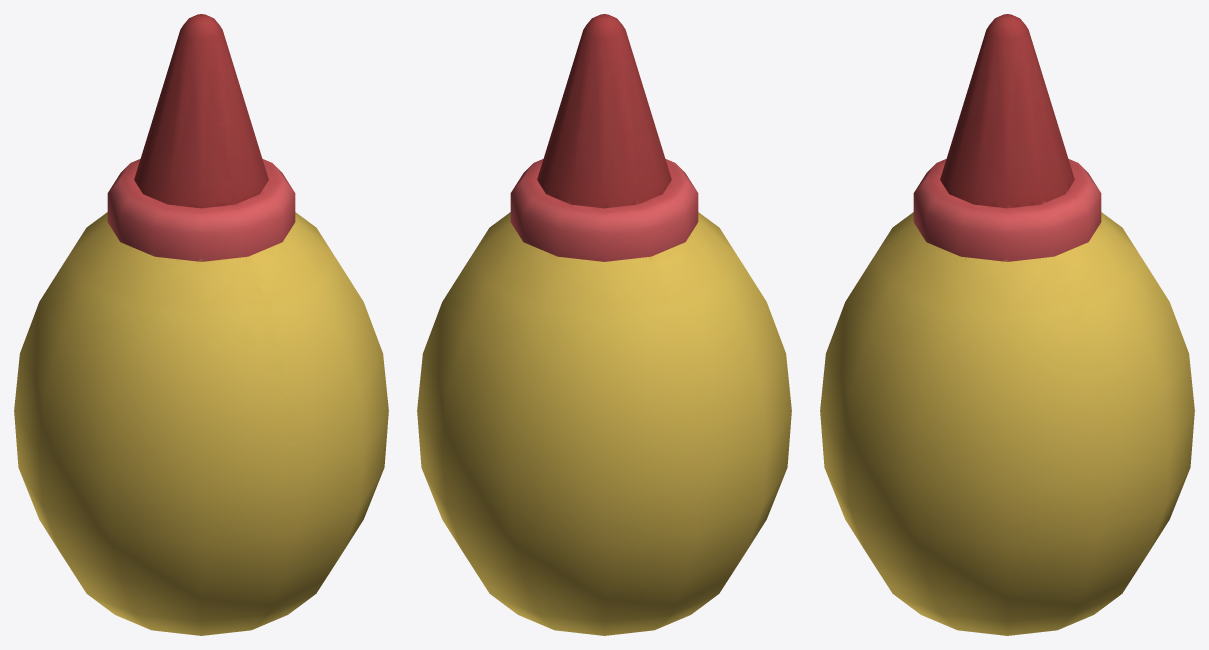
File: ColorfulSpire.fbx
3 views of the same model, side by side, from view 1: azimuth 30°, elevation 25°; view 2: azimuth 150°, elevation 25°; view 3: azimuth 270°, elevation 25° (orthographic).
Visible parts, largest first — view 1: ColorfulSpire; view 2: ColorfulSpire; view 3: ColorfulSpire.
Boxes of the visible parts, x1,y1,x2,y2 form: ColorfulSpire: (14, 14, 388, 635); ColorfulSpire: (417, 14, 791, 635); ColorfulSpire: (820, 14, 1194, 635).
Size of the model in its own units: 111 by 191 by 111.
